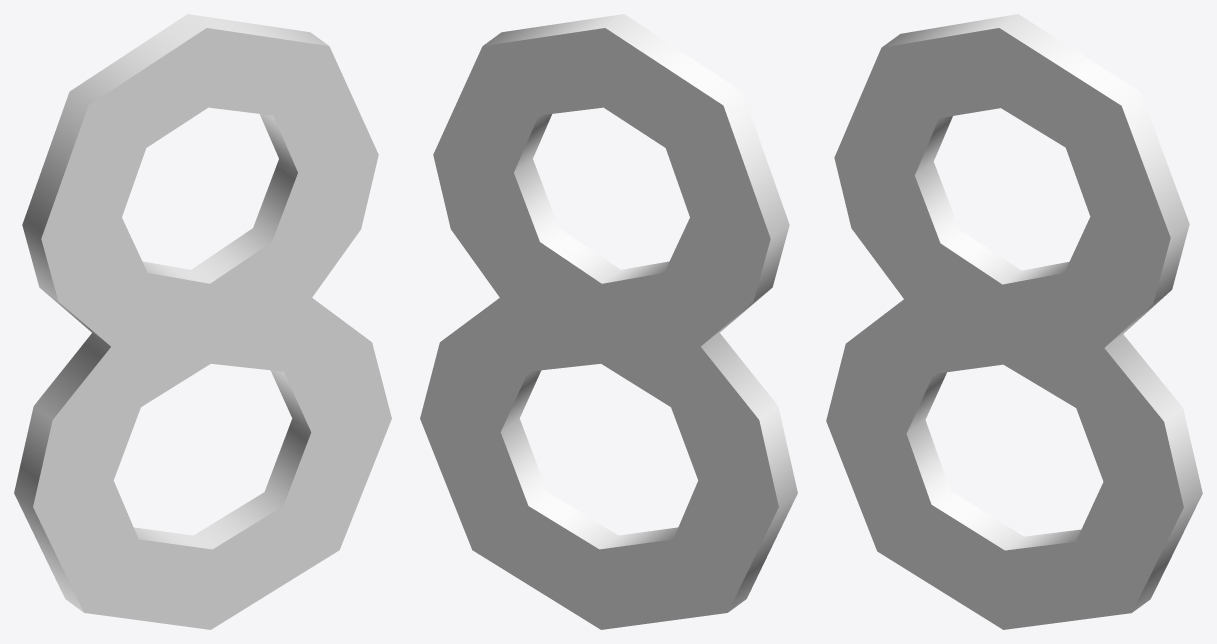
The model's file is Eight.obj.
The picture shows the model from 3 angles, left to right: view 1: azimuth 30°, elevation 25°; view 2: azimuth 150°, elevation 25°; view 3: azimuth 330°, elevation 25°; orthographic projection.
Parts seen in each view (by area): view 1: テキスト; view 2: テキスト; view 3: テキスト.
Part boxes in pixels (x1=…): テキスト: x1=14, y1=14, x2=391, y2=629; テキスト: x1=420, y1=14, x2=797, y2=629; テキスト: x1=826, y1=14, x2=1202, y2=629.
Size of the model in its own units: 0.436 by 0.7 by 0.04.
Materials: 1 (1 with a texture image).
